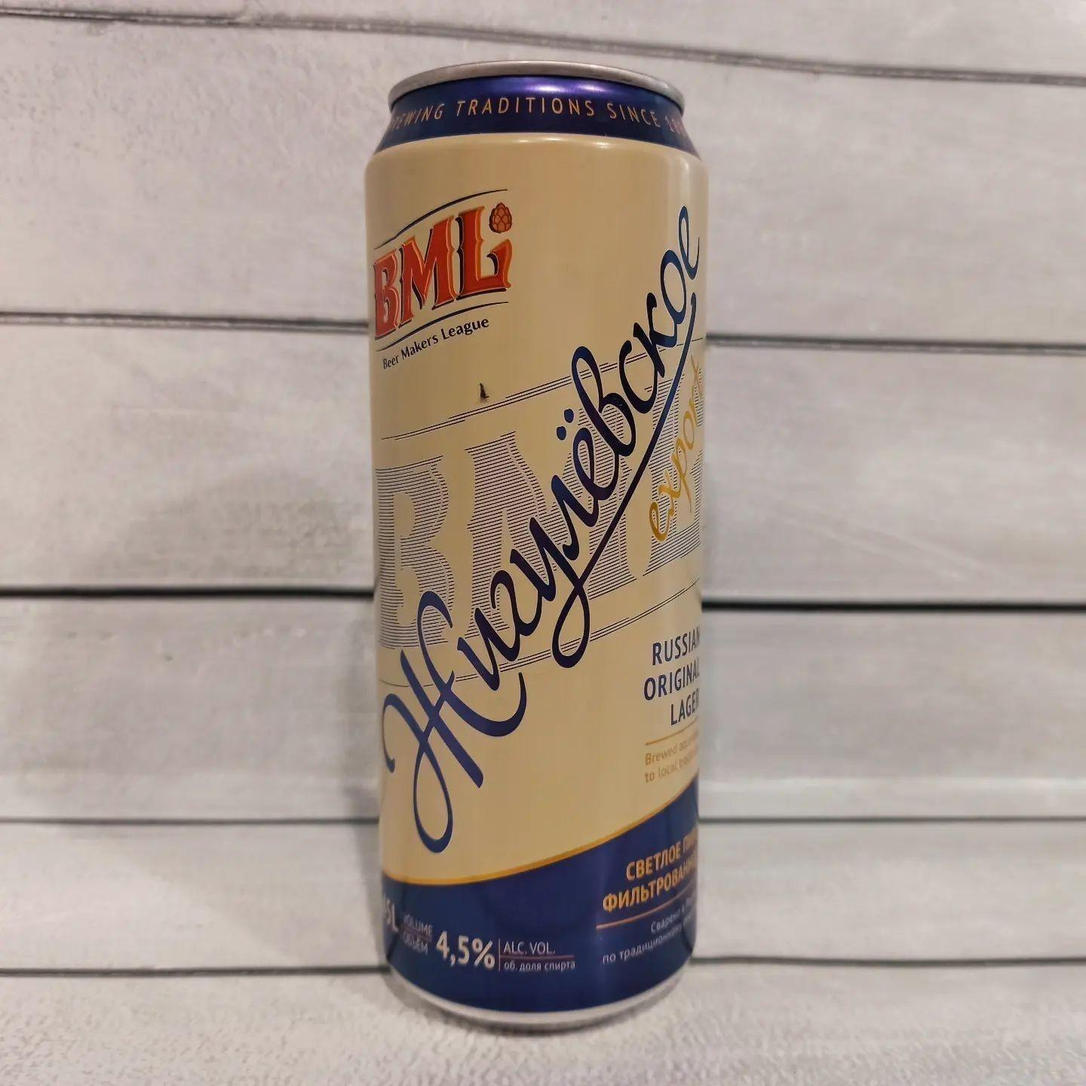tin can: (361, 44, 729, 1048)
